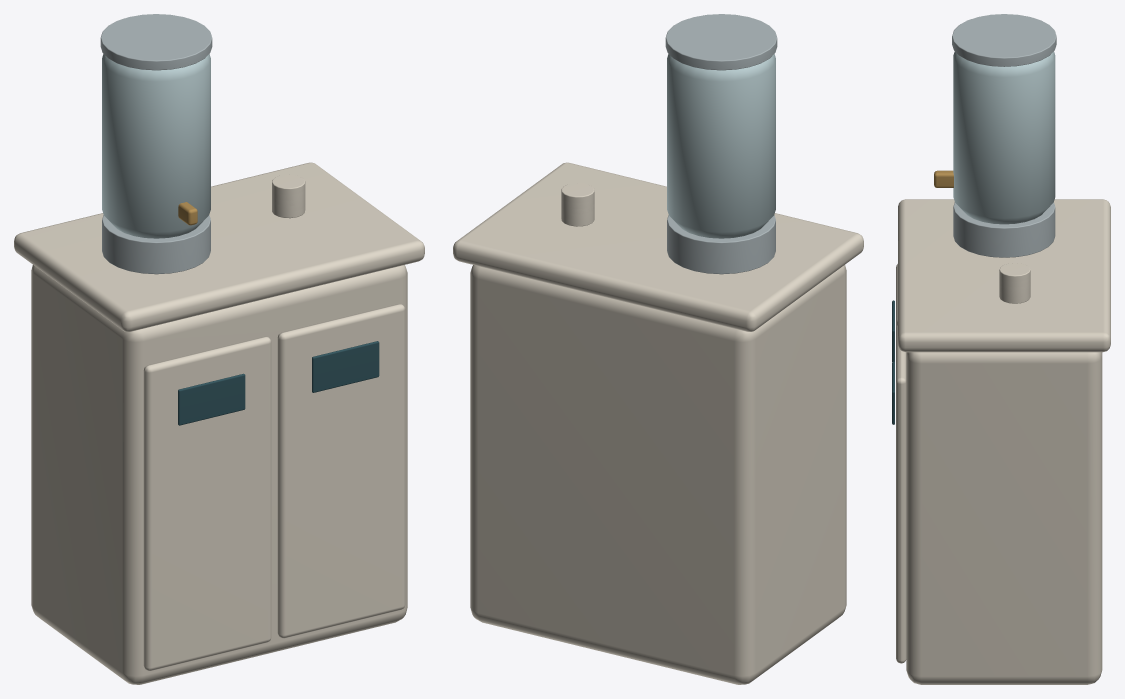
The model's file is ce_water.glb.
3 views of the same model, side by side, from view 1: azimuth 30°, elevation 25°; view 2: azimuth 150°, elevation 25°; view 3: azimuth 270°, elevation 25° (orthographic). The views are drawn at different scales.
Visible parts, largest first — view 1: prop; view 2: prop; view 3: prop.
Boxes of the visible parts, x1,y1,x2,y2 form: prop: (14,14,424,684); prop: (453,14,863,684); prop: (892,14,1110,684).
Size of the model in its own units: 0.7701 by 1.45 by 0.5135.
